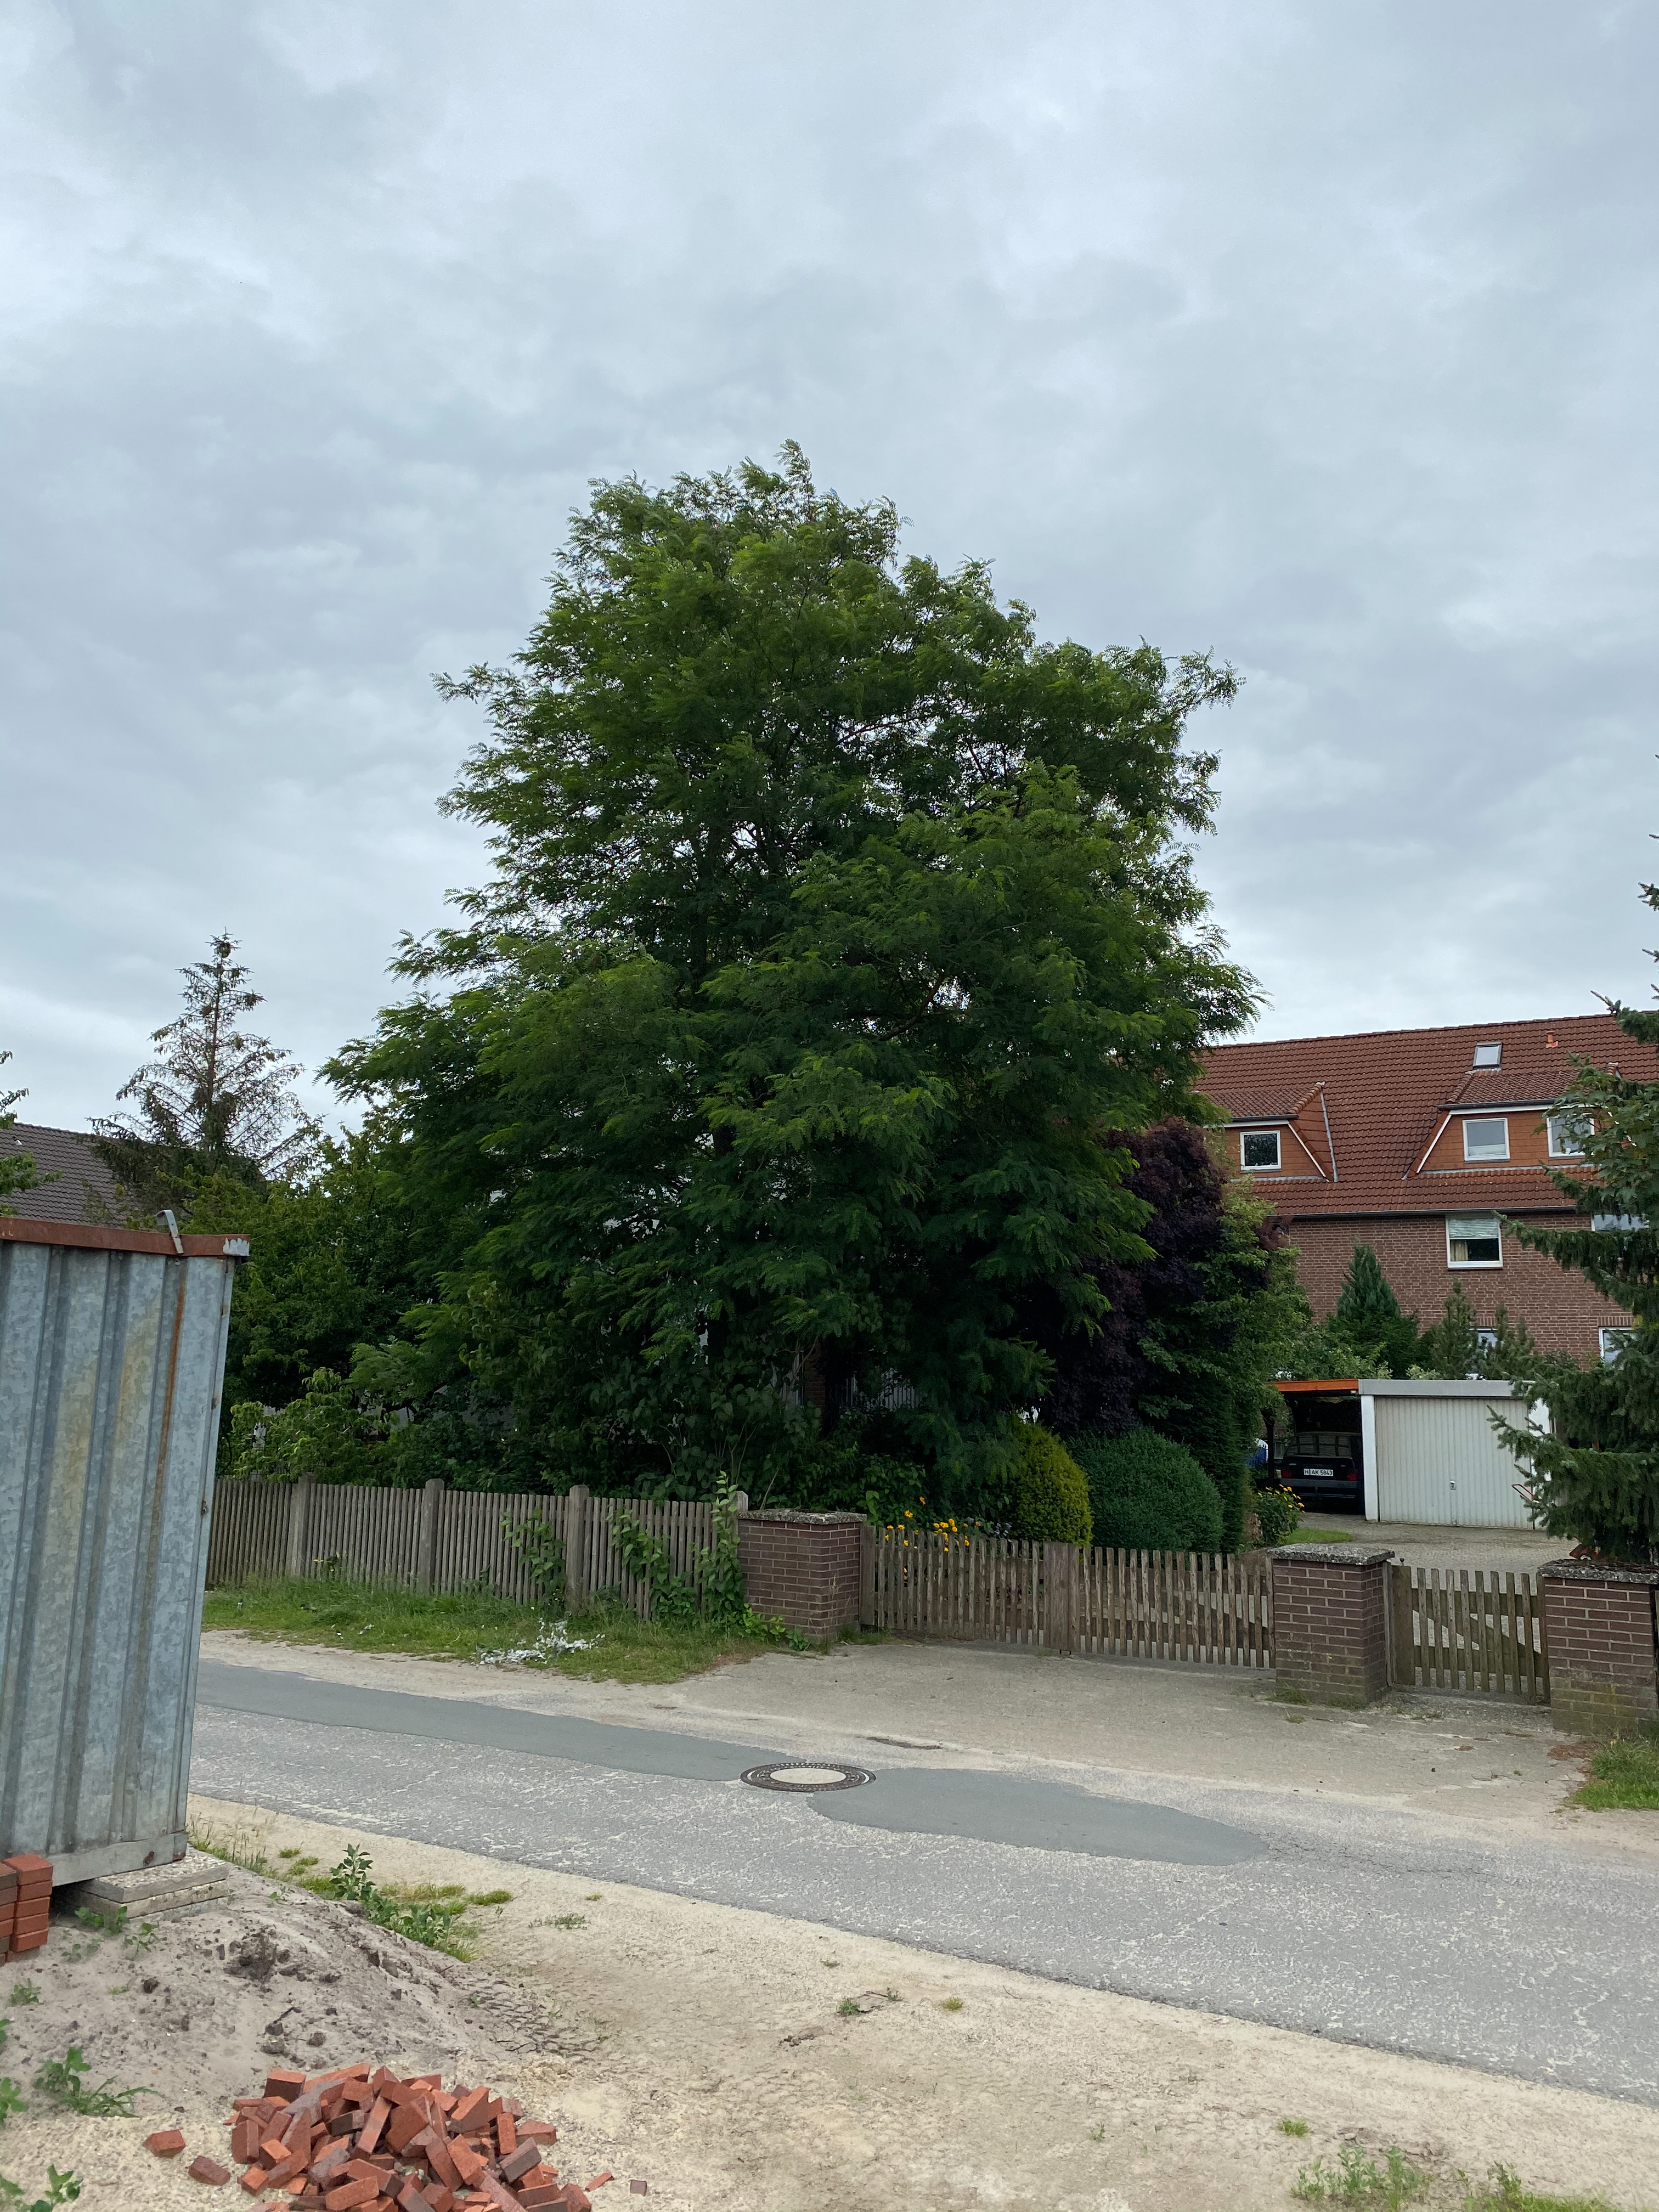tree: (312, 439, 1276, 1510), (1486, 756, 1659, 1569), (1032, 1116, 1295, 1435), (70, 927, 338, 1237), (0, 1050, 61, 1217)
